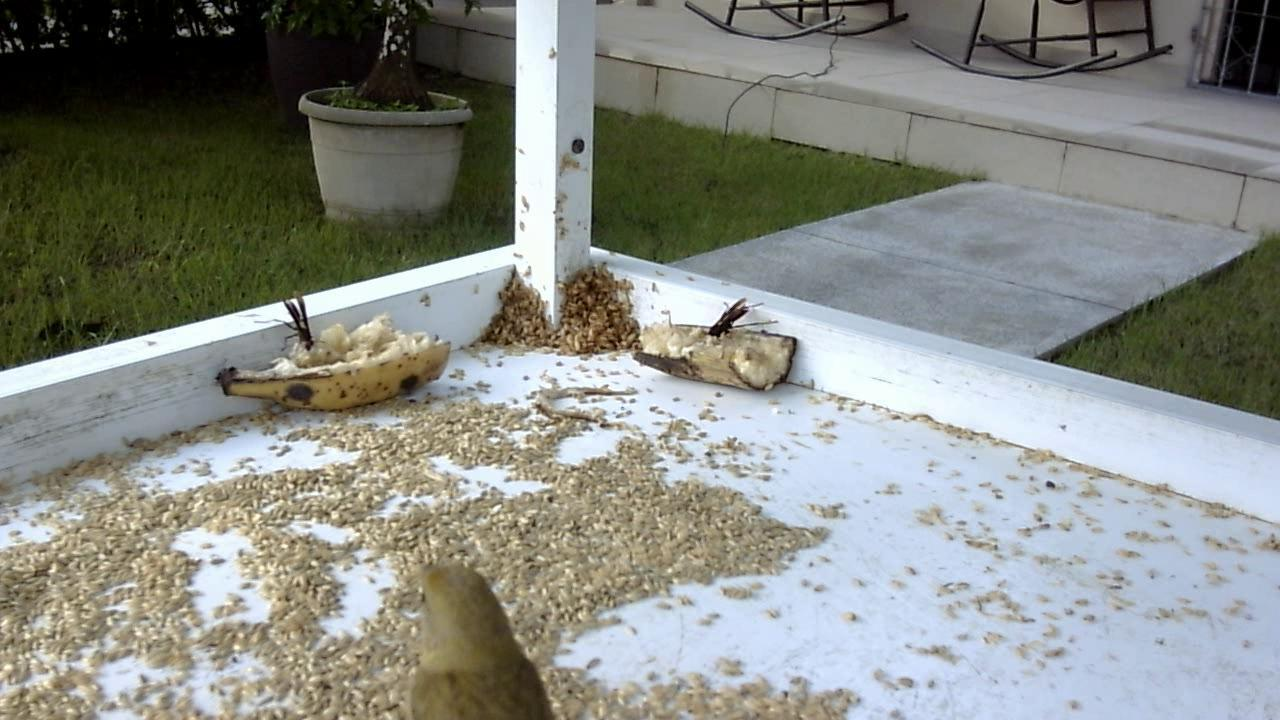canario_do_amazonas: (400, 557, 559, 715)
